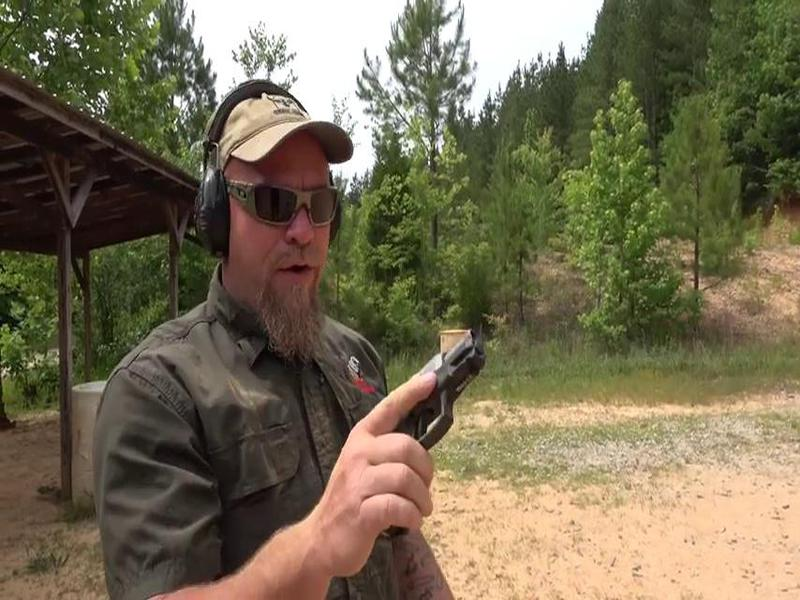Pistola: (311, 323, 511, 562)
